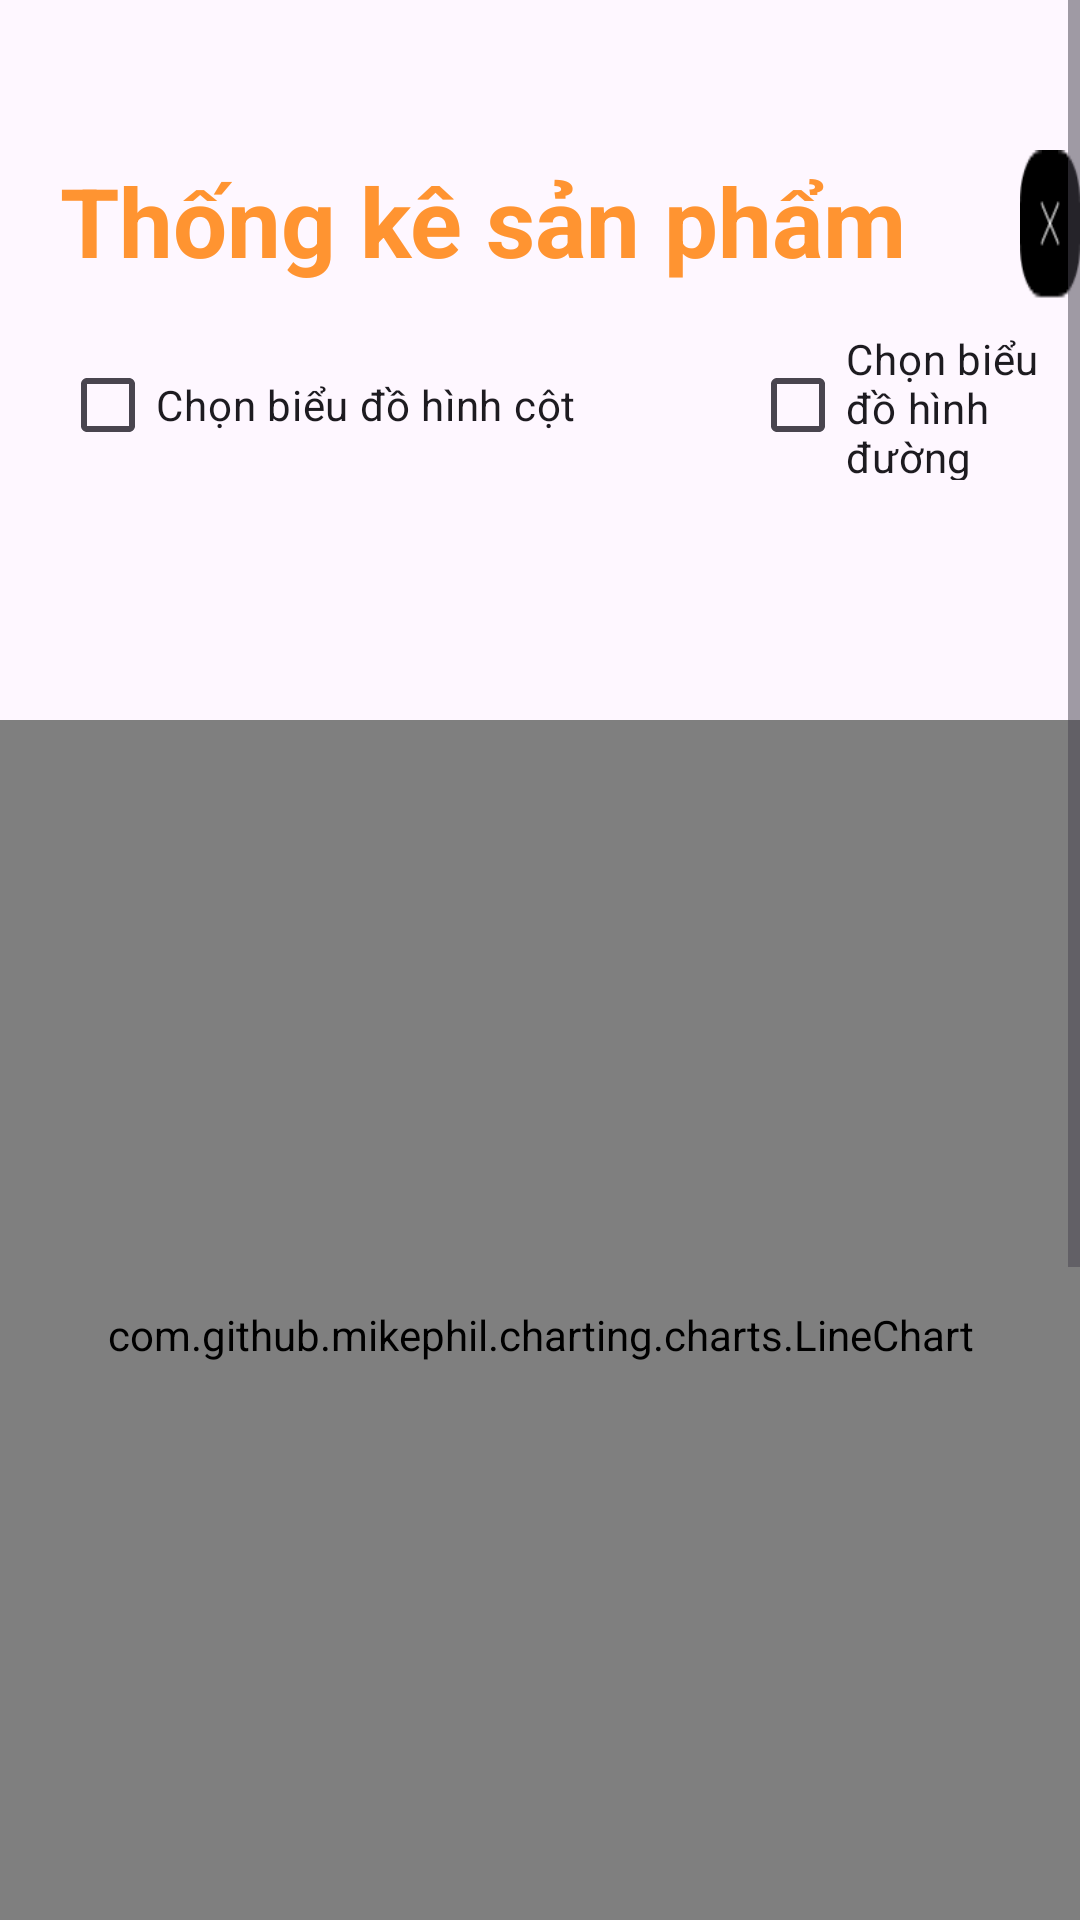

Locate icon controls on the screen. Image size 1080px×1920px, boxes as (x1, y1, x2, y2).
close: (1020, 150, 1080, 300)
